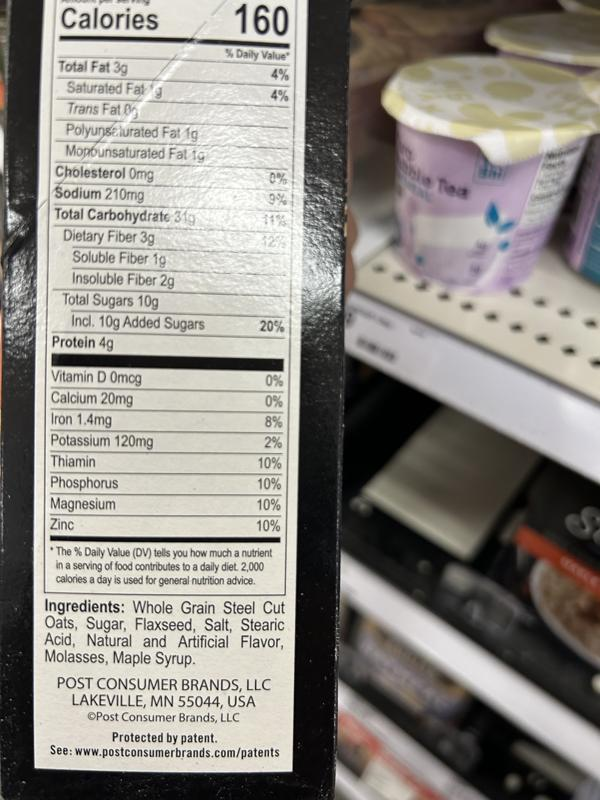ingredients: (42, 597, 285, 668)
